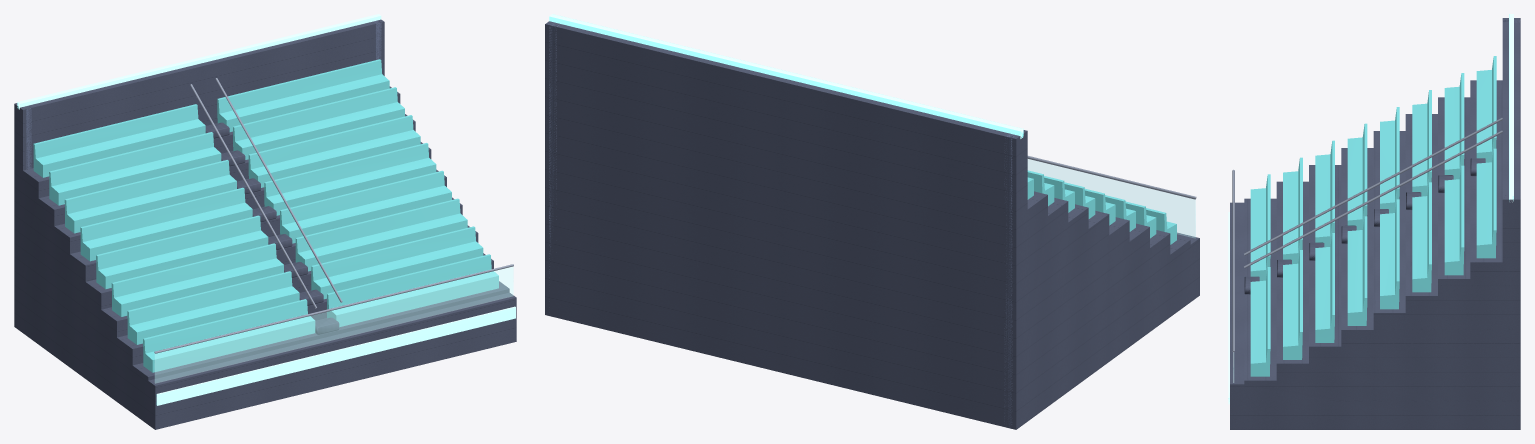
File: Stand-Section-Exact-Mesh-v2.0.0.glb
The picture shows the model from 3 angles, left to right: view 1: azimuth 30°, elevation 25°; view 2: azimuth 150°, elevation 25°; view 3: azimuth 270°, elevation 25°; orthographic projection. The views are drawn at different scales.
Parts seen in each view (by area): view 1: tiers, frontGlass, seats0R, seats0L, seats7R, seats1R, seats4R, seats3R, seats6R, seats2R, seats5R, seats5L (+11 smaller); view 2: tiers, crownLight, frontGlass, vomitoryR, vomitoryL, frontRail; view 3: tiers, seats7L, seats6L, seats0L, seats3L, seats4L, seats5L, seats1L, seats2L, seats0R, seats7R, seats3R (+10 smaller).
Boxes of the visible parts, x1=… form: tiers: x1=14, y1=19, x2=516, y2=429; frontGlass: x1=155, y1=266, x2=513, y2=383; seats0R: x1=143, y1=299, x2=315, y2=372; seats0L: x1=327, y1=254, x2=498, y2=326; seats7R: x1=33, y1=104, x2=205, y2=177; seats1R: x1=127, y1=271, x2=299, y2=344; seats4R: x1=80, y1=187, x2=252, y2=261; seats3R: x1=96, y1=215, x2=268, y2=289; seats6R: x1=49, y1=132, x2=221, y2=205; seats2R: x1=111, y1=243, x2=283, y2=316; seats5R: x1=64, y1=160, x2=236, y2=233; seats5L: x1=248, y1=115, x2=420, y2=187; tiers: x1=545, y1=21, x2=1199, y2=429; crownLight: x1=549, y1=14, x2=1023, y2=138; frontGlass: x1=1028, y1=159, x2=1195, y2=237; vomitoryR: x1=1004, y1=133, x2=1015, y2=428; vomitoryL: x1=549, y1=22, x2=560, y2=314; frontRail: x1=1027, y1=156, x2=1196, y2=199; tiers: x1=1230, y1=18, x2=1520, y2=429; seats7L: x1=1476, y1=148, x2=1496, y2=258; seats6L: x1=1444, y1=165, x2=1464, y2=275; seats0L: x1=1250, y1=267, x2=1270, y2=376; seats3L: x1=1347, y1=216, x2=1367, y2=325; seats4L: x1=1380, y1=199, x2=1399, y2=309; seats5L: x1=1412, y1=182, x2=1431, y2=292; seats1L: x1=1283, y1=250, x2=1302, y2=359; seats2L: x1=1315, y1=233, x2=1334, y2=342; seats0R: x1=1250, y1=174, x2=1270, y2=280; seats7R: x1=1476, y1=56, x2=1496, y2=162; seats3R: x1=1347, y1=123, x2=1367, y2=230.
Bounding box in the file's own units: 12 × 7.2 × 8.15.
Materials: 6 (3 with a texture image).
